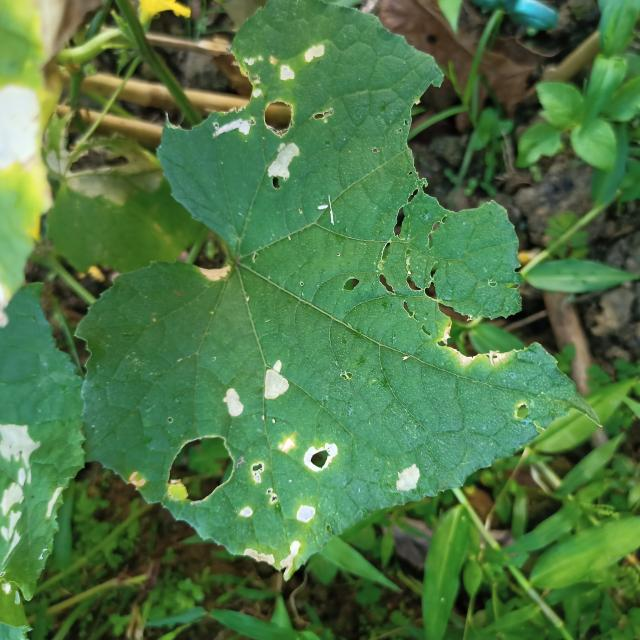disease_cucumber: (230, 429, 428, 575), (210, 37, 332, 185), (216, 361, 298, 423)
